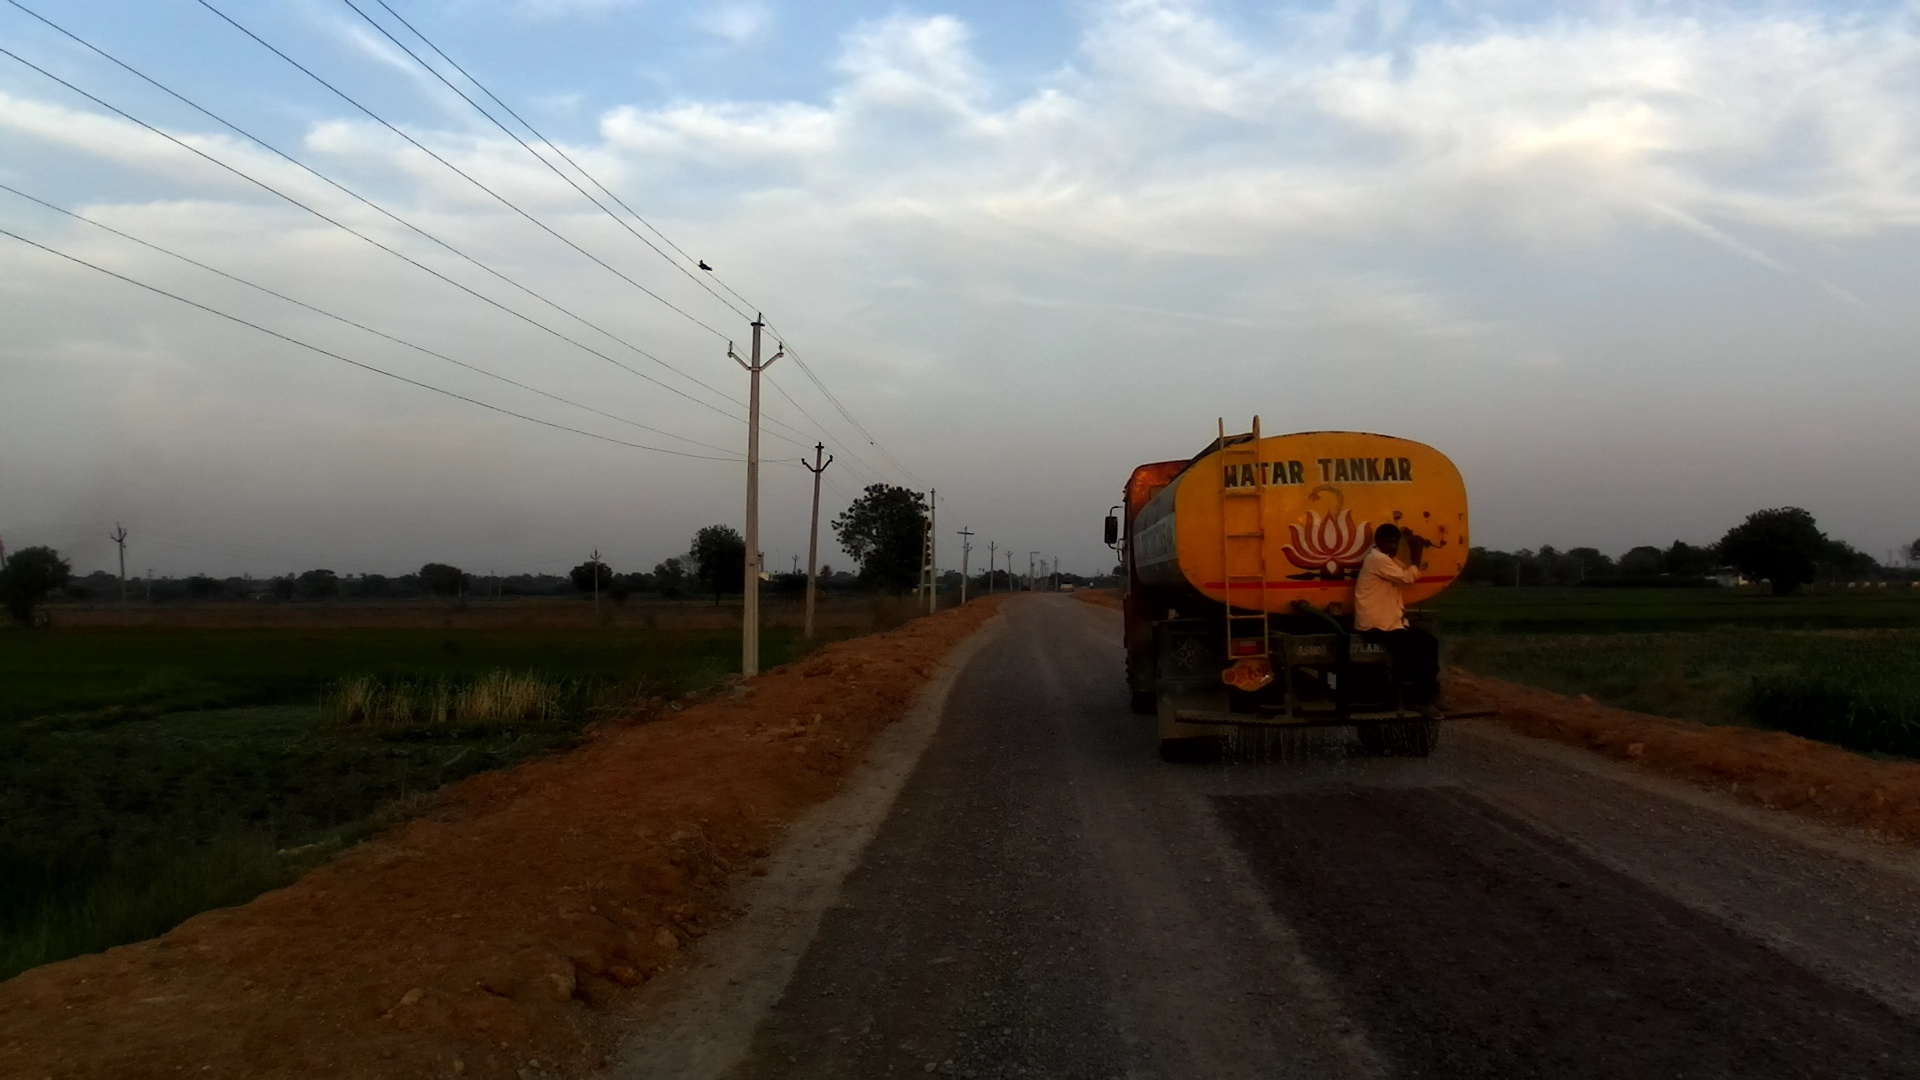rider: (1352, 522, 1450, 725)
truck: (1098, 414, 1474, 775)
